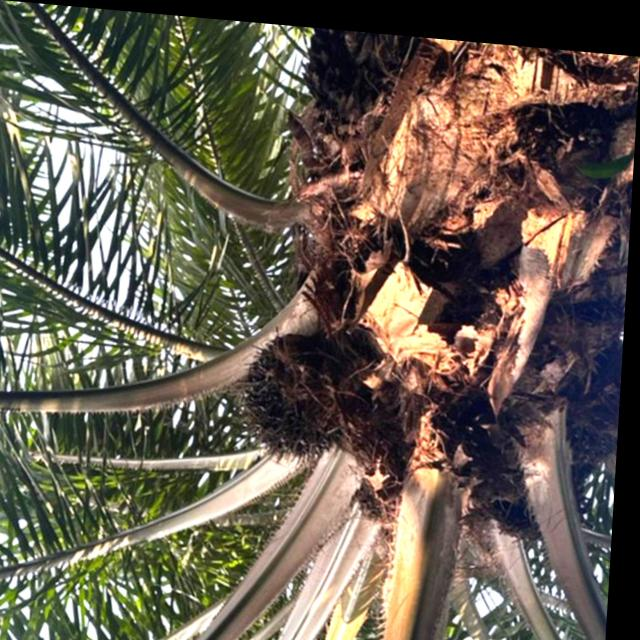unripe: (223, 313, 367, 471)
